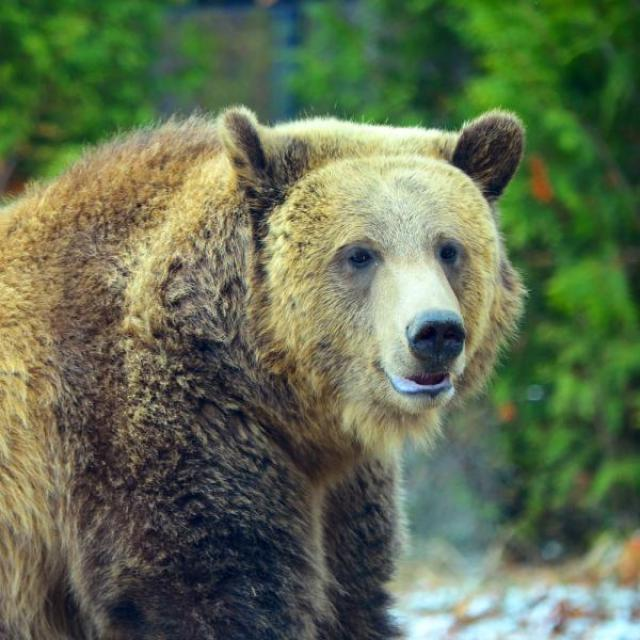Bear: (0, 108, 527, 640)
